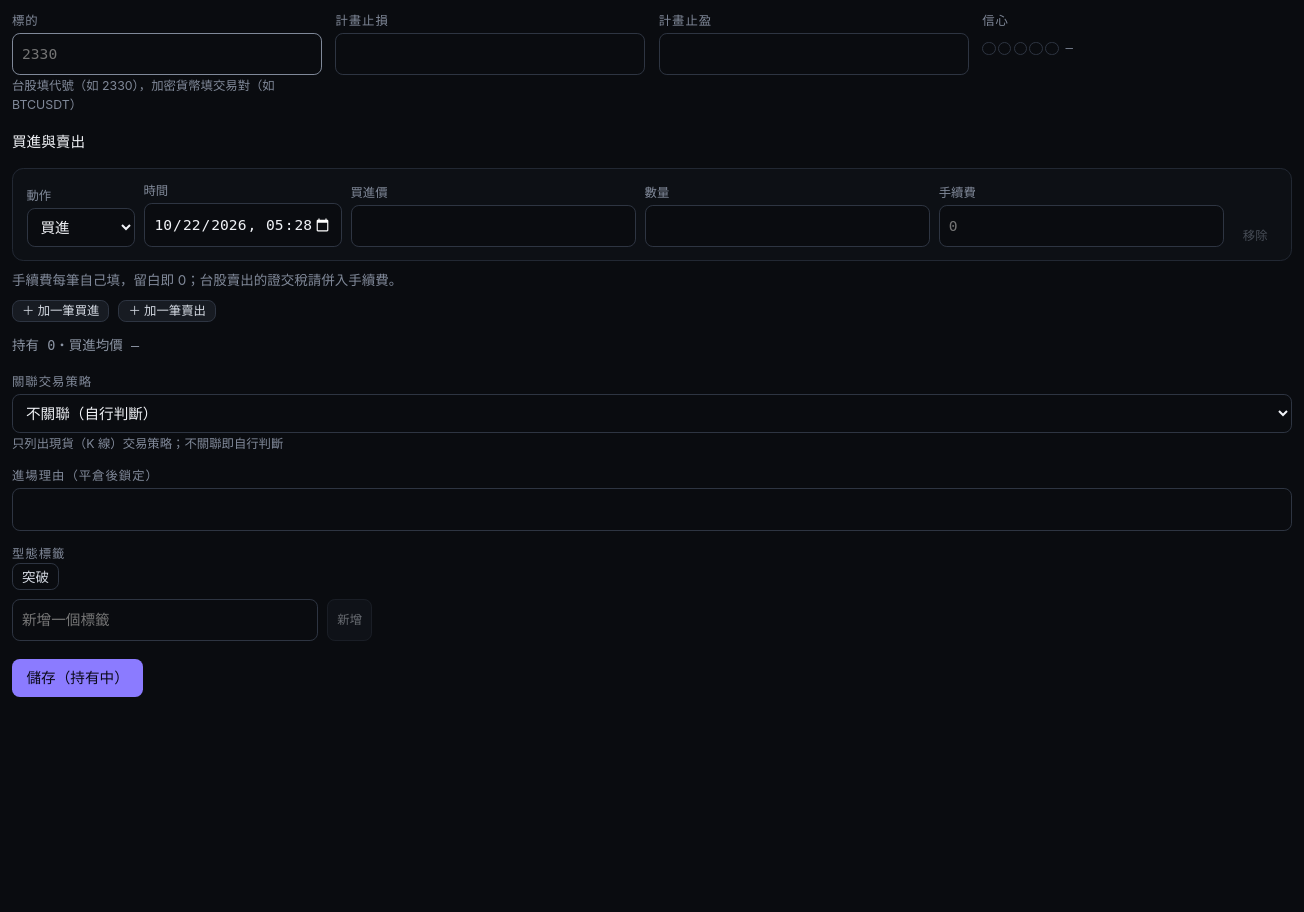
it: SpotTradeForm：計畫與關聯 › 加一筆賣出再移除；新增標籤重名時寫在表單上方
The image size is (1304, 912).
Click the button with test id "fill-add-sell": click(167, 311) [118,300,216,322]
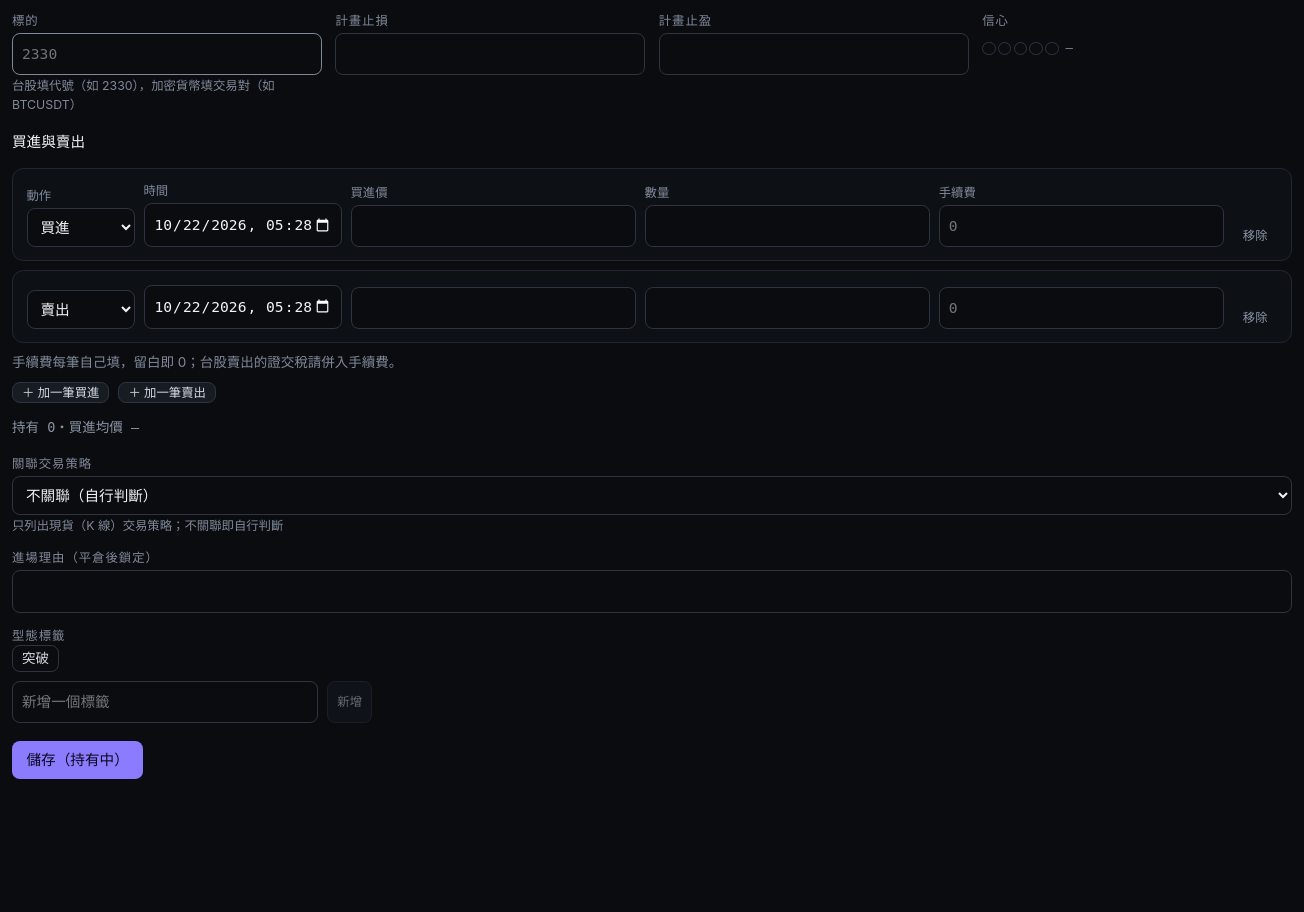
Now the number of dropdowns with test id "fill-kind" is 2, box [26,208,134,247]; [26,290,134,329]
Click the 2nd button with test id "fill-remove": click(1255, 318) [1233,307,1278,329]
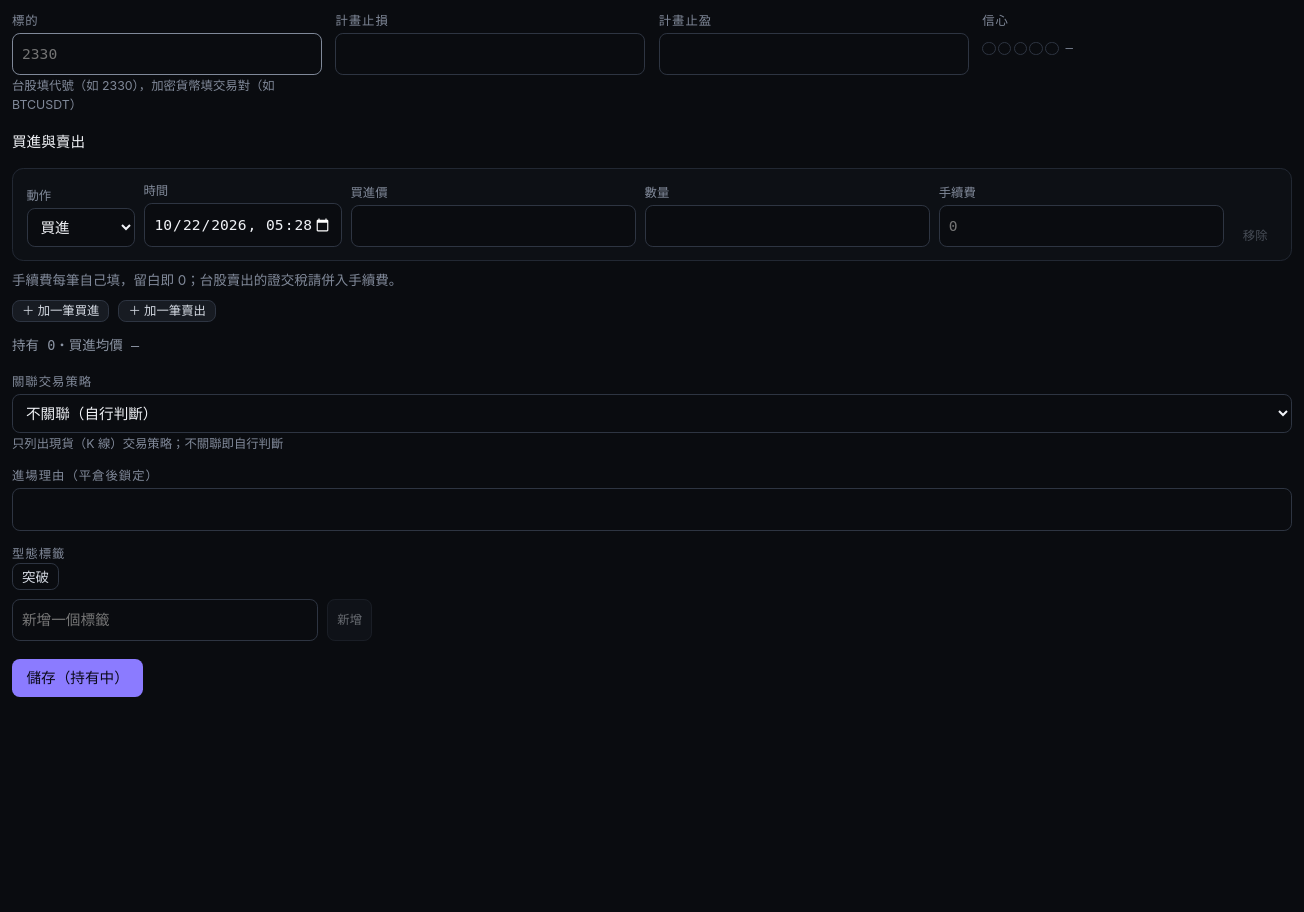
Now the number of dropdowns with test id "fill-kind" is 1, box [26,208,134,247]
In the field with test id "tag-picker-input": (165, 620) [12,599,318,641], type "突破"
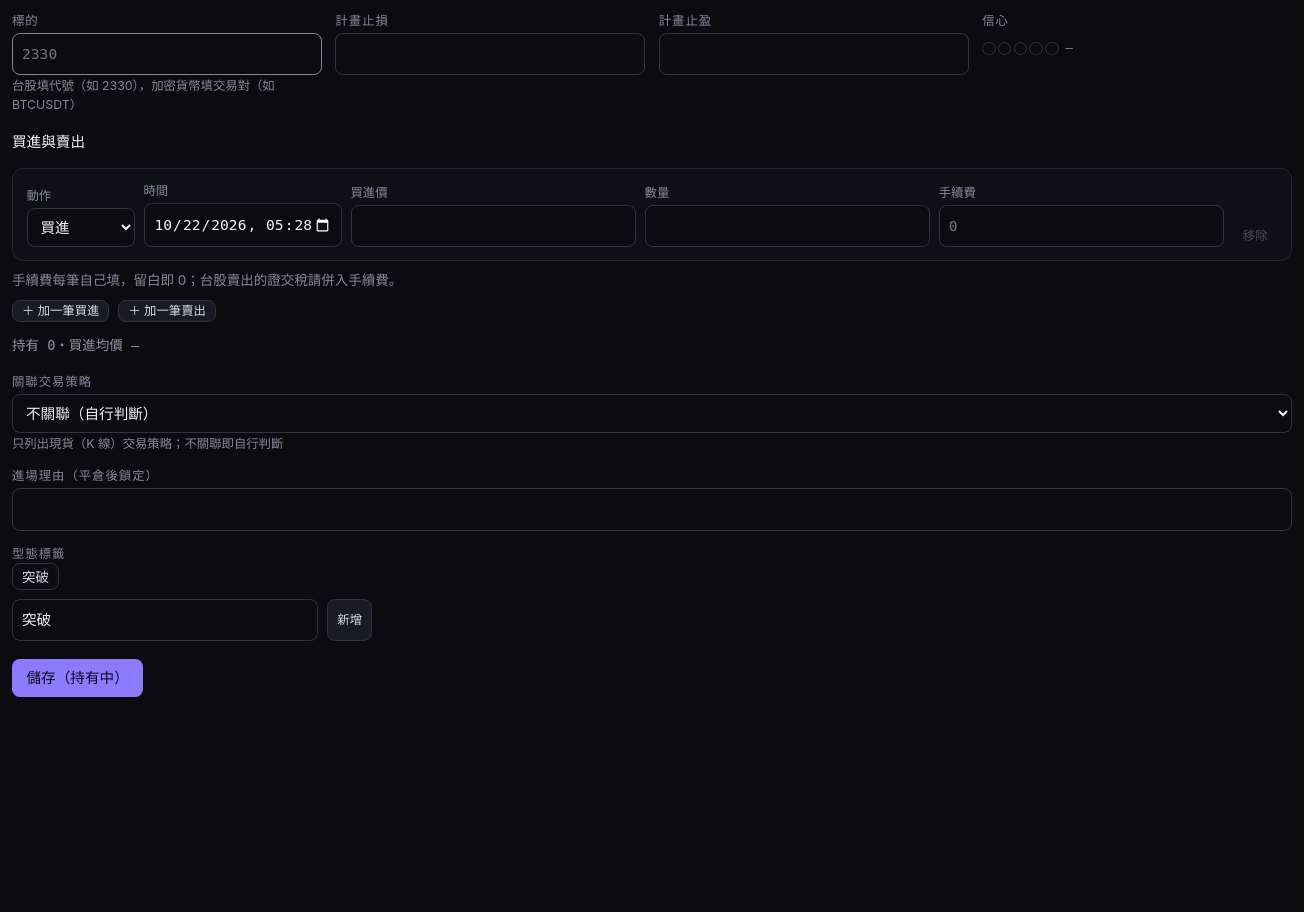
Click the button with test id "tag-picker-create": click(350, 620) [327,599,372,641]
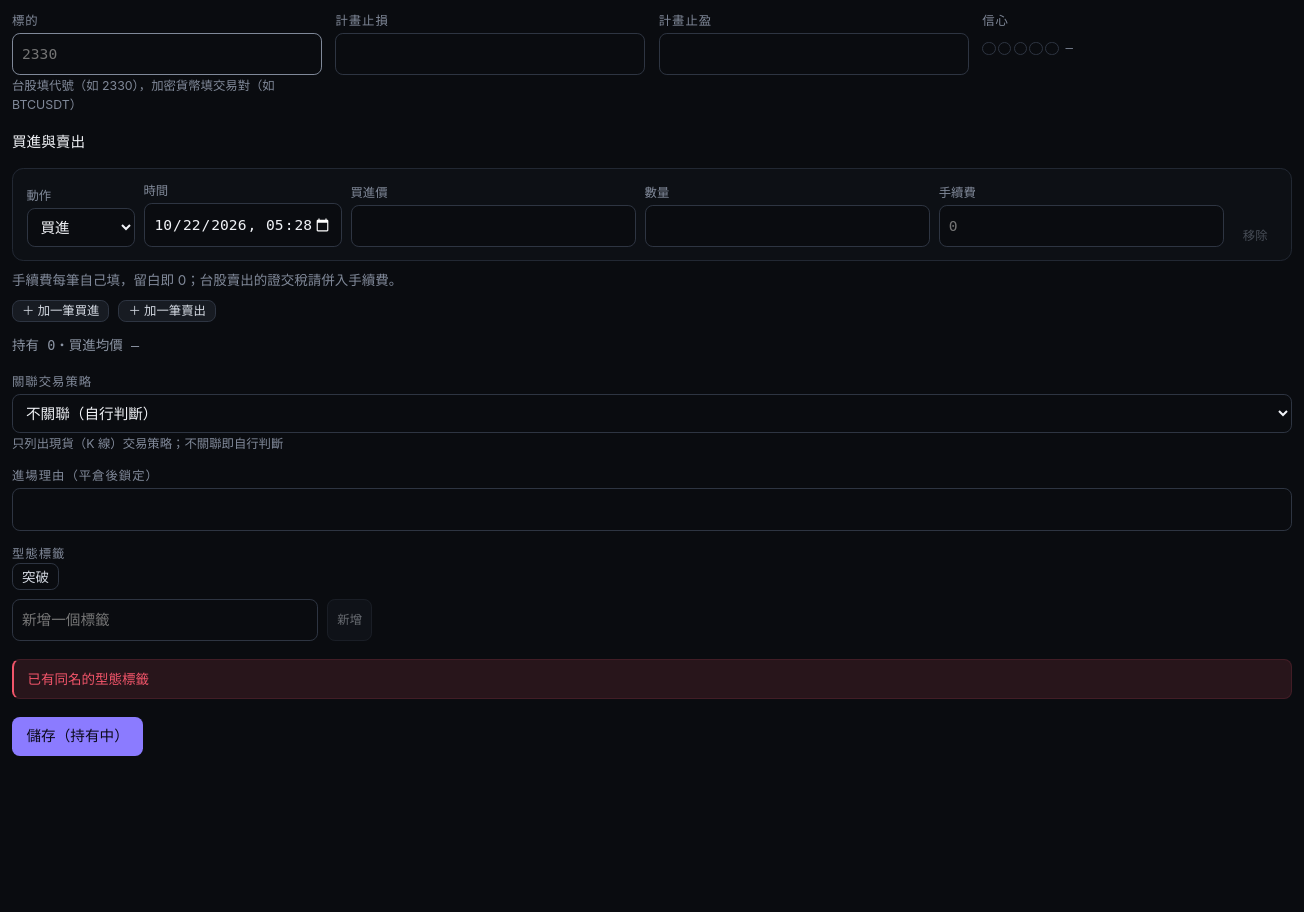
Now the message with test id "form-rejection" reads "已有同名的型態標籤", box [28,671,149,687]
